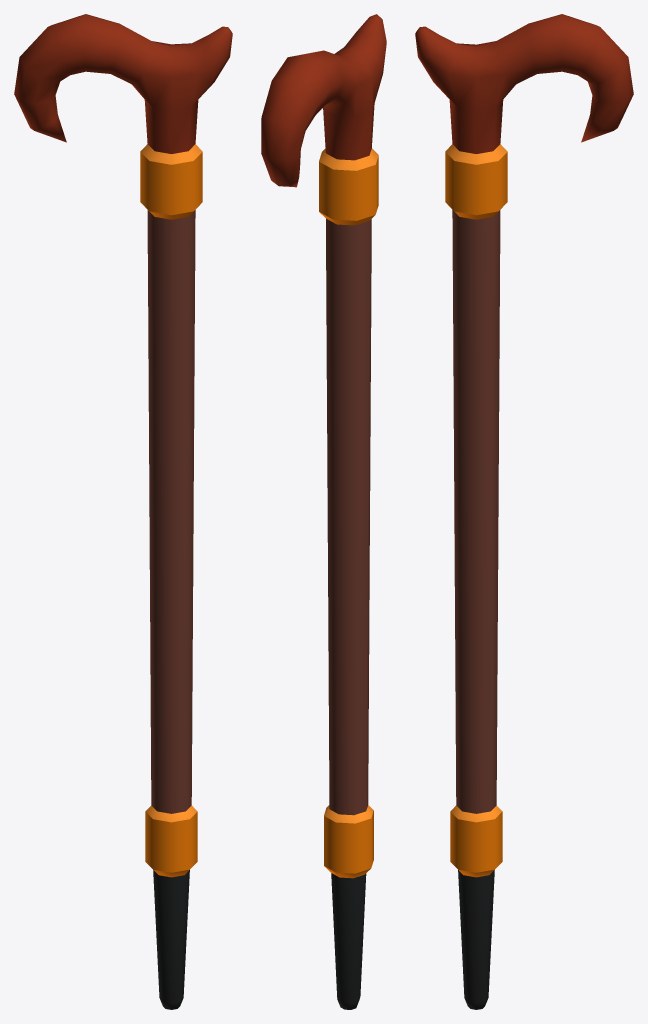
The model's file is Stick_02.fbx.
3 renders of one model, left to right at view 1: azimuth 90°, elevation 25°; view 2: azimuth 150°, elevation 25°; view 3: azimuth 270°, elevation 25°, orthographic.
Visible parts, largest first — view 1: Stick_02; view 2: Stick_02; view 3: Stick_02.
Part boxes in pixels (x1,y1,x2,y2): Stick_02: (14,14,232,1009); Stick_02: (261,14,386,1009); Stick_02: (415,14,633,1009).
Bounding box in the file's own units: 5.69 × 19.9 × 99.91.
